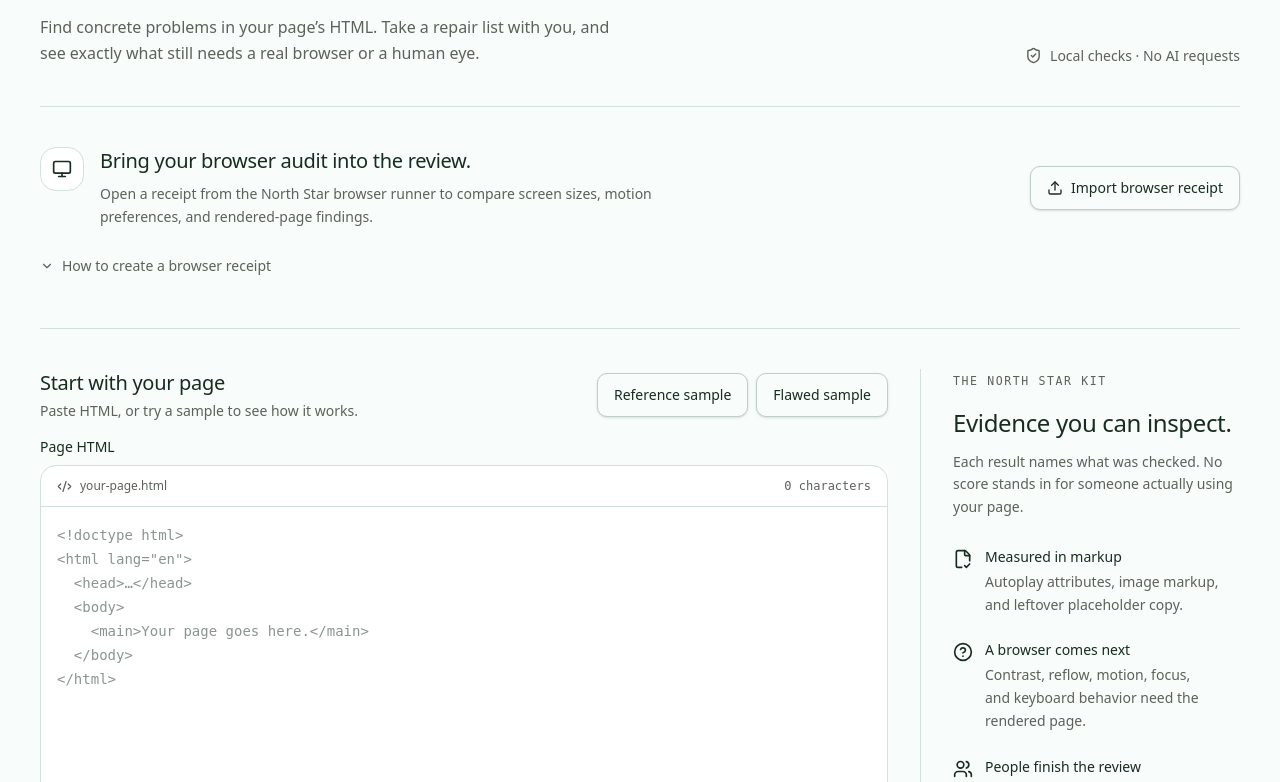
Test: quality workbench evidence › identifies stale results and clears the editor and receipt together
(page scrolled)
Step 1. Click the button "Reference sample" → (673, 395), box [597,373,748,417]
(page scrolled)
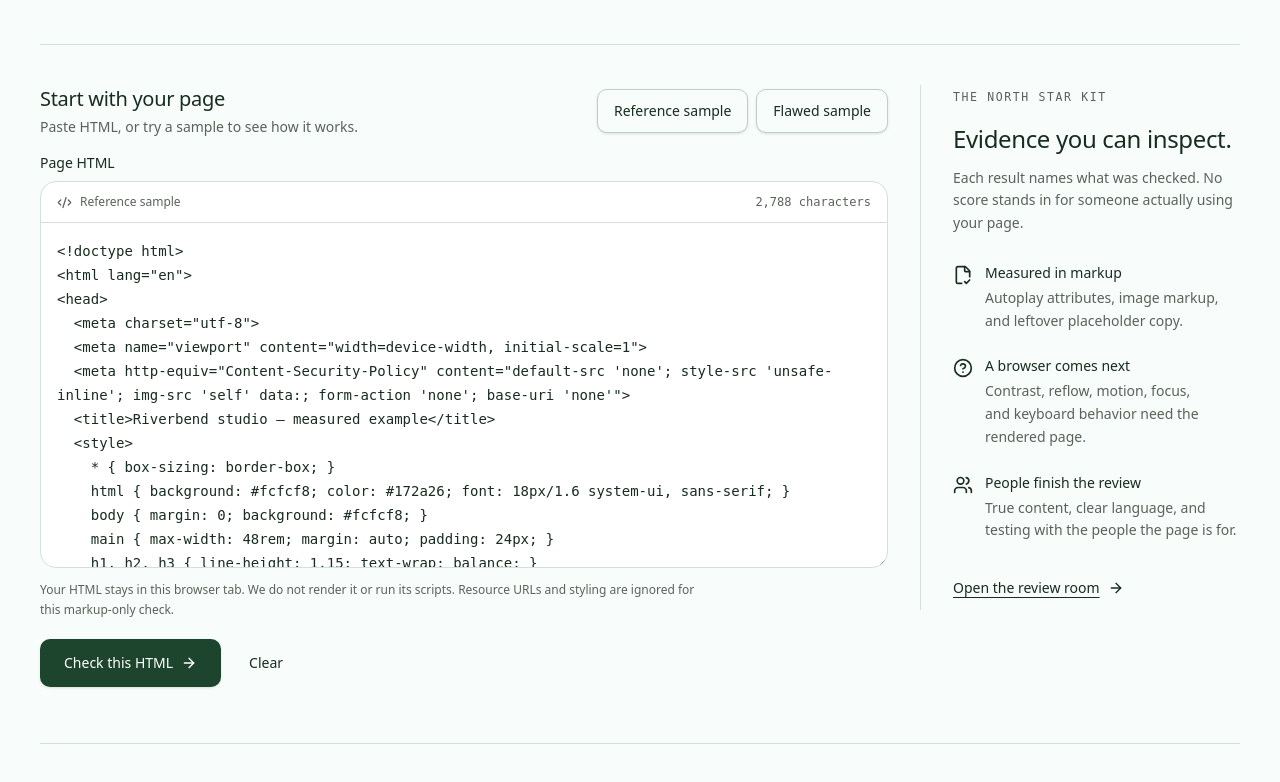
Step 2. Replace the text in the text box labelled "Page HTML" with "<p>A new page</p>" → (464, 395), box [41,223,887,567]
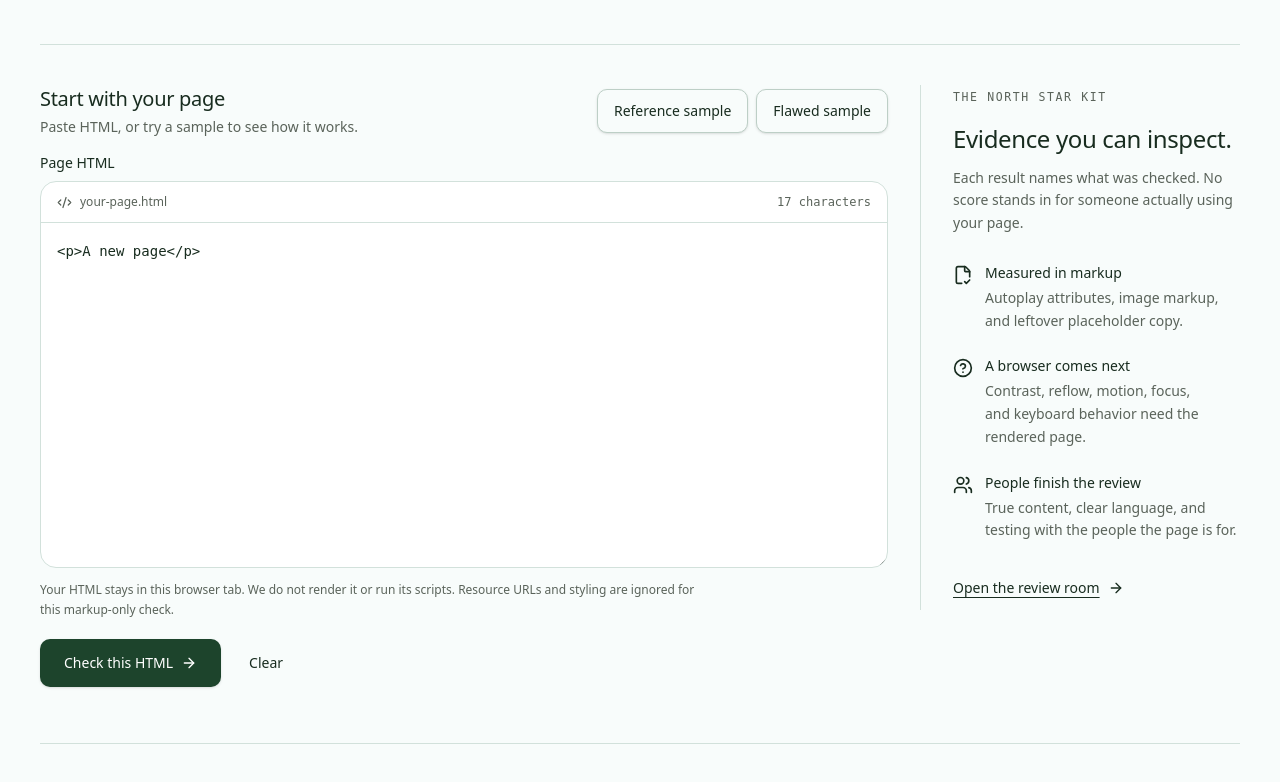
Step 3. Click the button "Clear" → (266, 663), box [233,639,299,687]
(page scrolled)
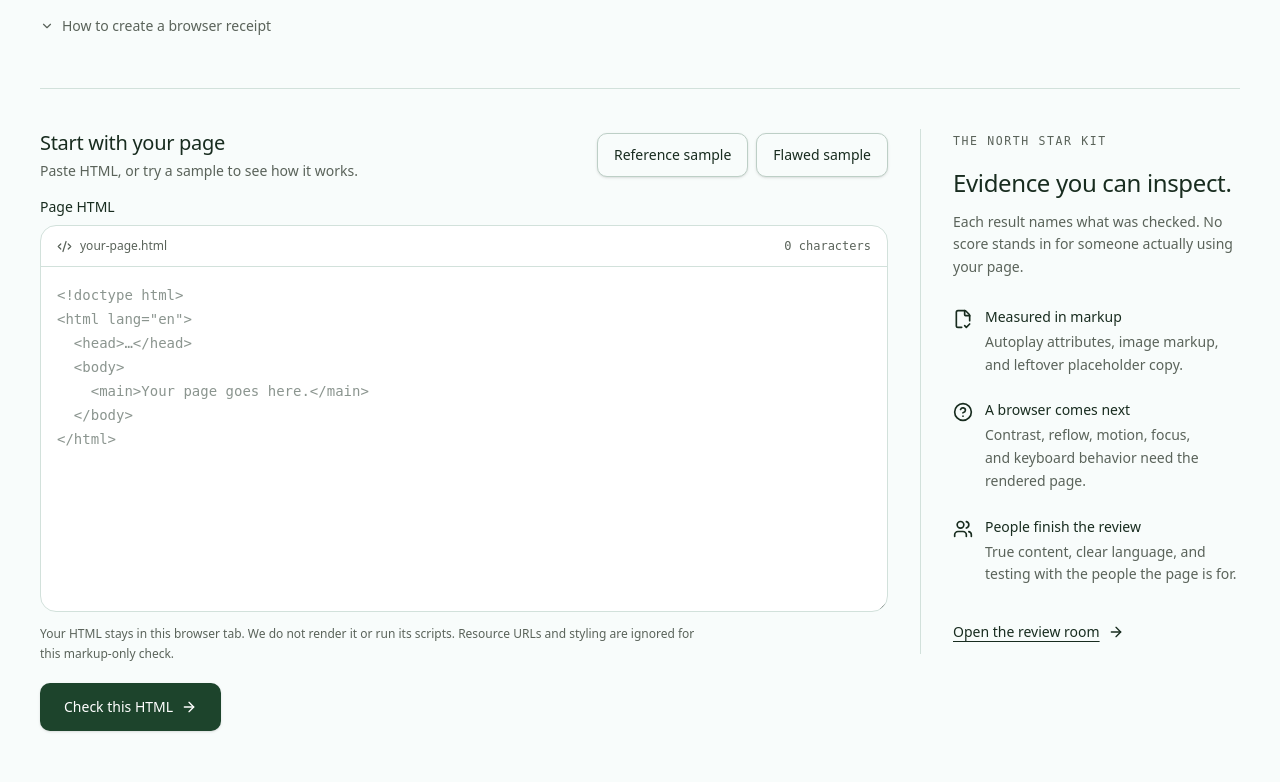
Now the text box labelled "Page HTML" is empty, box [41,267,887,611]
